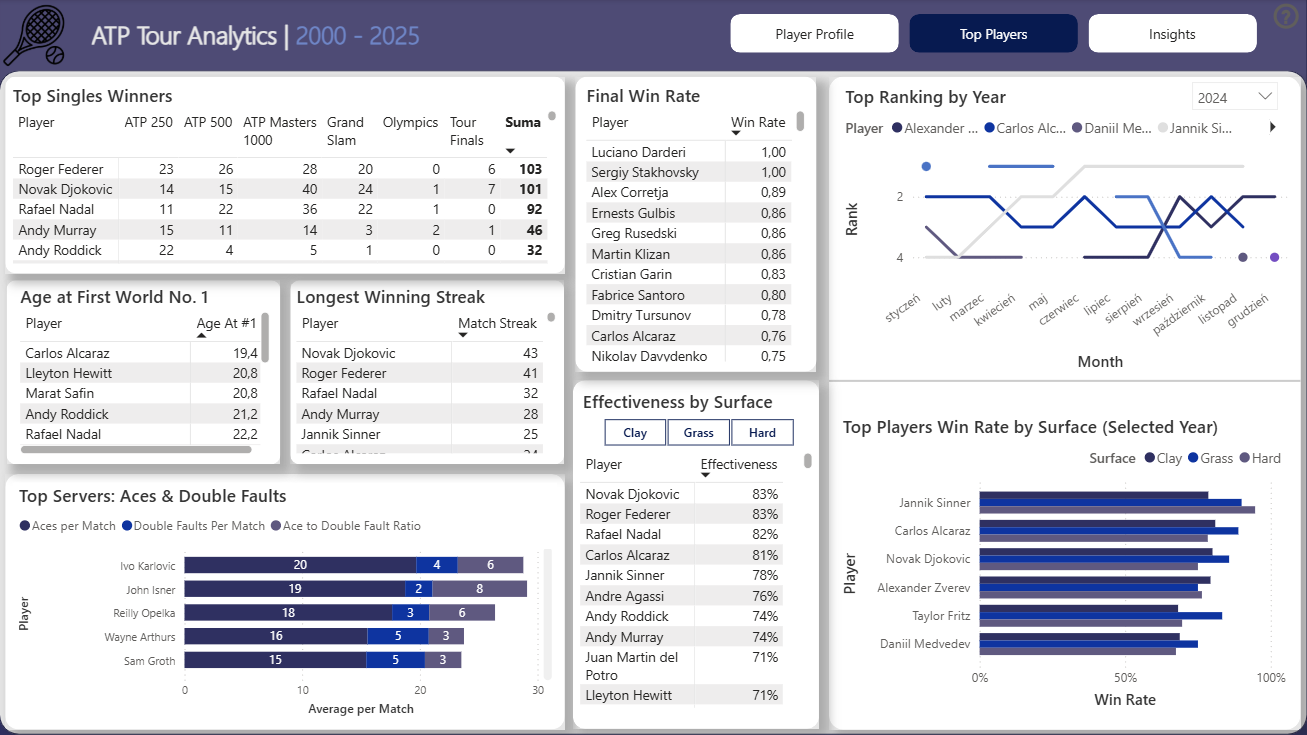

What the dashboard file says about the page in this screenshot:
{"tool":"powerbi","page":{"name":"Top Players","canvas":[1280,720],"ordinal":1},"visuals":[{"type":"shape","box":[0,0,1280,102.5],"z":0},{"type":"shape","box":[812.5,76.5,461.2,639],"z":0,"group":"g1"},{"type":"shape","box":[0,70,1280,650],"z":1000},{"type":"shape","box":[6.2,76.2,547.5,192.5],"z":1000,"group":"g3"},{"type":"shape","box":[6,464.7,547.3,250],"z":2000},{"type":"pivotTable","title":"Top Singles Winners","fields":{"Rows":["gold dim_players.full_name"],"Columns":["gold dim_tournaments.Tournament_Level"],"Values":["_Measures.Tournament_Wins"]},"box":[8.7,82.3,541.9,181.6],"z":3000,"group":"g3"},{"type":"slicer","fields":{"Values":["gold dim_players.full_name"]},"box":[602.7,131.5,125.6,32.7],"z":3000},{"type":"shape","box":[7.3,275.3,268,180],"z":4000},{"type":"pivotTable","title":"Best Servers","fields":{"Rows":["gold dim_players.full_name"],"Values":["_Measures.Avg Aces per Match","_Measures.Double_Faults_Per_Match","_Measures.Ace_to_DF_Ratio"]},"box":[14,473.3,530.7,233.3],"z":5000},{"type":"pivotTable","title":"Age at First World No. 1","fields":{"Rows":["gold dim_players.full_name"],"Values":["_Measures.Age At #1"]},"box":[15.3,278.7,254,171.3],"z":6000},{"type":"shape","box":[285.3,275.3,268,180],"z":7000},{"type":"pivotTable","title":"Longest Winning Streak","fields":{"Rows":["gold dim_players.full_name"],"Values":["Max(win_streak.streak_length)"]},"box":[286.7,279.3,263.3,170.7],"z":8000},{"type":"group","id":"g1","title":"Grupa 1","box":[812.5,71,461.2,644.5],"z":9000},{"type":"shape","box":[812.5,288.8,461.2,170],"z":10000},{"type":"lineChart","title":"Top Ranking by Year","fields":{"Series":["gold dim_players.full_name"],"Y":["Avg(gold fact_match_player_stats.atp_ranking)"],"Category":["dim_date.Date.Odmiana.Hierarchia dat.Miesiąc"]},"box":[823.1,82.7,442.5,286.1],"z":11000,"group":"g1"},{"type":"group","id":"g2","title":"Grupa 2","box":[561.3,373.3,241.3,341.3],"z":11000},{"type":"barChart","title":"Top Servers: Aces & Double Faults","fields":{"Category":["gold dim_players.full_name"],"Y":["_Measures.Avg Aces per Match","_Measures.Double_Faults_Per_Match","_Measures.Ace_to_DF_Ratio"]},"box":[14.7,473.3,531.3,233.3],"z":12000},{"type":"pageNavigator","box":[715.7,14.3,515.7,38.6],"z":13000},{"type":"clusteredBarChart","title":"Top Players Win Rate by Surface (Selected Year)","fields":{"Category":["gold dim_players.full_name"],"Y":["_Measures.Win_Rate"],"Series":["gold fact_match.surface"]},"box":[820.6,405.9,443.8,293.5],"z":13000,"group":"g1"},{"type":"image","box":[0,0,68.8,70],"z":14000},{"type":"shape","box":[563.8,76.2,236.2,288.8],"z":14000,"group":"g4"},{"type":"textbox","box":[85,13.8,460,62.5],"z":15000},{"type":"slicer","fields":{"Values":["gold fact_match_player_stats.year"]},"box":[1157.5,71,104.3,52.9],"z":15000,"group":"g1"},{"type":"pivotTable","title":"Final Win Rate","fields":{"Rows":["gold dim_players.full_name"],"Values":["_Measures.Final_Win_Rate"]},"box":[570,82.3,223.8,277.7],"z":15000,"group":"g4"},{"type":"group","id":"g3","title":"Grupa 3","box":[6.2,76.2,547.5,192.5],"z":16000},{"type":"group","id":"g4","title":"Grupa 4","box":[563.8,76.2,236.2,288.8],"z":17000},{"type":"actionButton","box":[1242.1,0,37.9,33.6],"z":18000},{"type":"shape","box":[561.3,373.3,241.1,341.1],"z":18000,"group":"g2"},{"type":"pivotTable","fields":{"Rows":["gold dim_players.full_name"],"Values":["_Measures.Effectiveness"]},"box":[563.8,439.6,236.8,259.4],"z":18500,"group":"g2"},{"type":"slicer","title":"Effectiveness by Surface","fields":{"Values":["gold fact_match.surface"]},"box":[565.6,382.4,235,57.1],"z":18750,"group":"g2"}]}

Visuals, with their boxes in screenshot pixels (x1, y1, x2, y2), scaled from the page's 1280x720 canvas onto the 1307x735 screenshot:
shape: <bbox>0, 0, 1306, 105</bbox>
shape: <bbox>830, 78, 1301, 730</bbox>
shape: <bbox>0, 71, 1306, 734</bbox>
shape: <bbox>6, 78, 565, 274</bbox>
shape: <bbox>6, 474, 565, 730</bbox>
"Top Singles Winners" pivotTable: <bbox>9, 84, 562, 269</bbox>
slicer - gold dim_players.full_name: <bbox>615, 134, 744, 168</bbox>
shape: <bbox>7, 281, 281, 465</bbox>
"Best Servers" pivotTable: <bbox>14, 483, 556, 721</bbox>
"Age at First World No. 1" pivotTable: <bbox>16, 285, 275, 459</bbox>
shape: <bbox>291, 281, 565, 465</bbox>
"Longest Winning Streak" pivotTable: <bbox>293, 285, 562, 459</bbox>
"Grupa 1" group: <bbox>830, 72, 1301, 730</bbox>
shape: <bbox>830, 295, 1301, 468</bbox>
"Top Ranking by Year" lineChart: <bbox>840, 84, 1292, 376</bbox>
"Grupa 2" group: <bbox>573, 381, 820, 729</bbox>
"Top Servers: Aces & Double Faults" barChart: <bbox>15, 483, 558, 721</bbox>
pageNavigator: <bbox>731, 15, 1257, 54</bbox>
"Top Players Win Rate by Surface (Selected Year)" clusteredBarChart: <bbox>838, 414, 1291, 714</bbox>
image: <bbox>0, 0, 70, 71</bbox>
shape: <bbox>576, 78, 817, 373</bbox>
textbox: <bbox>87, 14, 556, 78</bbox>
slicer - gold fact_match_player_stats.year: <bbox>1182, 72, 1288, 126</bbox>
"Final Win Rate" pivotTable: <bbox>582, 84, 811, 368</bbox>
"Grupa 3" group: <bbox>6, 78, 565, 274</bbox>
"Grupa 4" group: <bbox>576, 78, 817, 373</bbox>
actionButton: <bbox>1268, 0, 1306, 34</bbox>
shape: <bbox>573, 381, 819, 729</bbox>
pivotTable - gold dim_players.full_name x _Measures.Effectiveness: <bbox>576, 449, 817, 714</bbox>
"Effectiveness by Surface" slicer: <bbox>578, 390, 817, 449</bbox>
